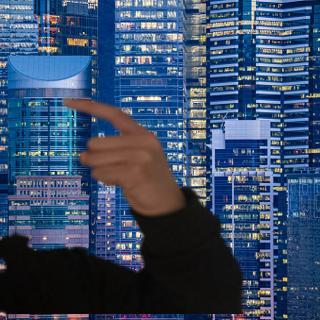WHY: (56, 93, 183, 212)
